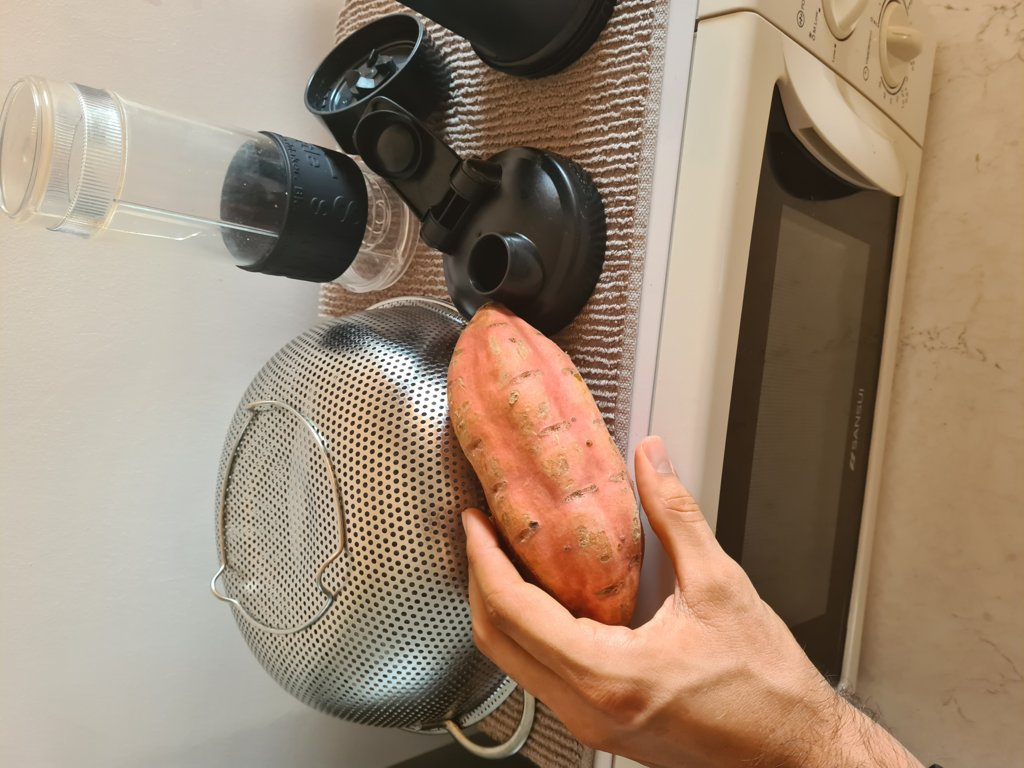Sweet Potatow: (451, 305, 640, 624)
